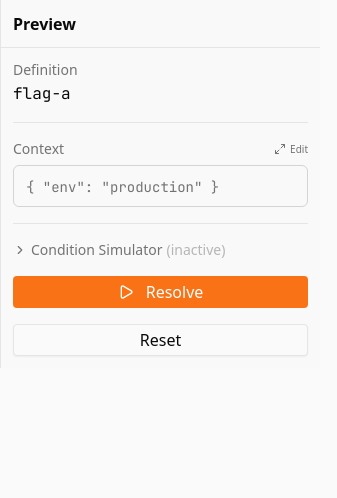
Test case: PreviewPanel › should show inactive result when definition is inactive
This screenshot has width=337, height=498.
Click the button "Resolve". click: (160, 292)
box: [13,276,308,308]
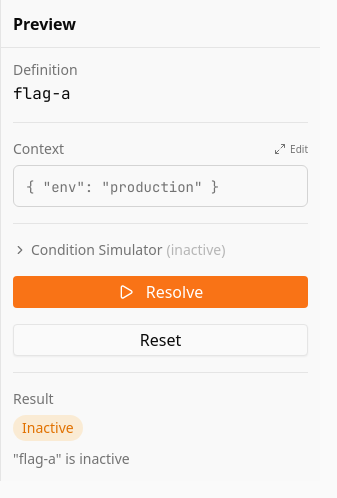
Expected: the text "Inactive" is shown, [13,415,83,441]
